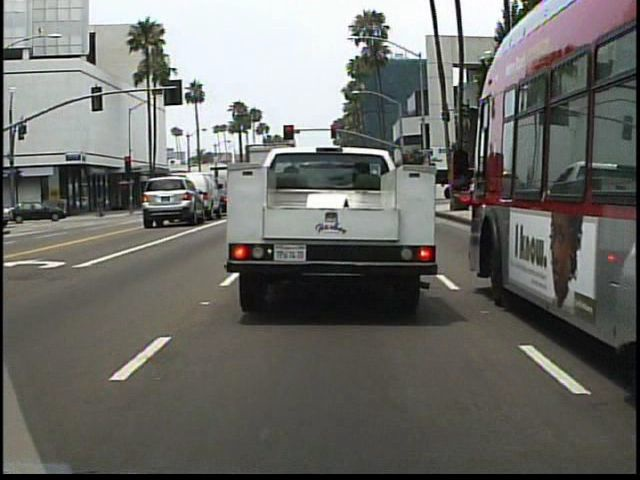person: (59, 192, 67, 221)
